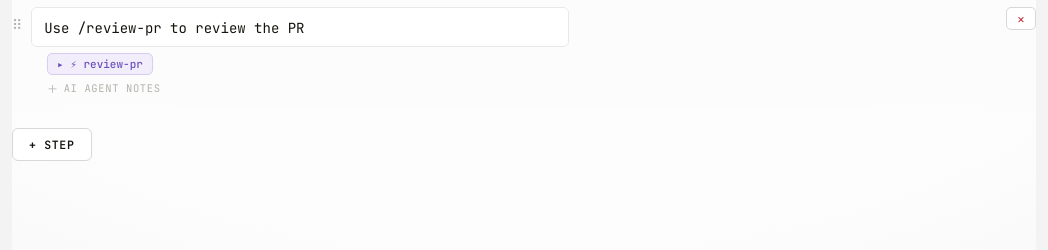
Test case: StepList › expands a referenced skill inline to show its summary
Expected: the text "Review a GitHub PR" is not shown
Click the button "▸ ⚡ review-pr". click: coordinates (100, 64)
box: [47,53,153,75]
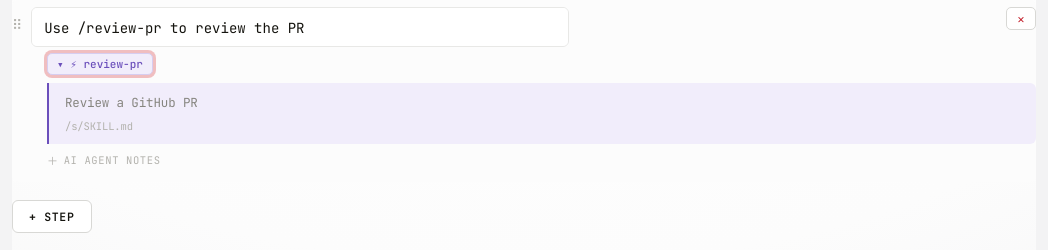
Expected: the text "Review a GitHub PR" is shown, [65,94,198,111]
collapses again
Click the button "▾ ⚡ review-pr". click: coordinates (100, 64)
box: [47,53,153,75]
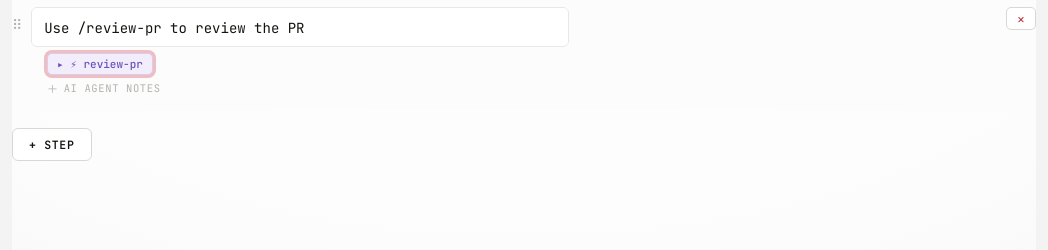
Expected: the text "Review a GitHub PR" is gone
